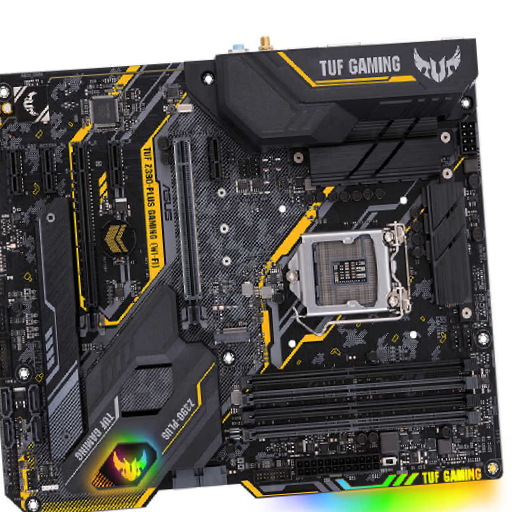CPU: (289, 226, 412, 318)
GPU: (169, 137, 209, 331), (72, 141, 106, 338)
MOTHERBOARD: (1, 66, 506, 506)
RAM: (242, 357, 483, 444)
SSD: (212, 326, 252, 346)
